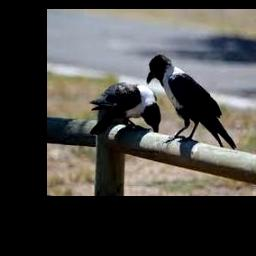Crow: (146, 55, 236, 152), (90, 82, 160, 133)
